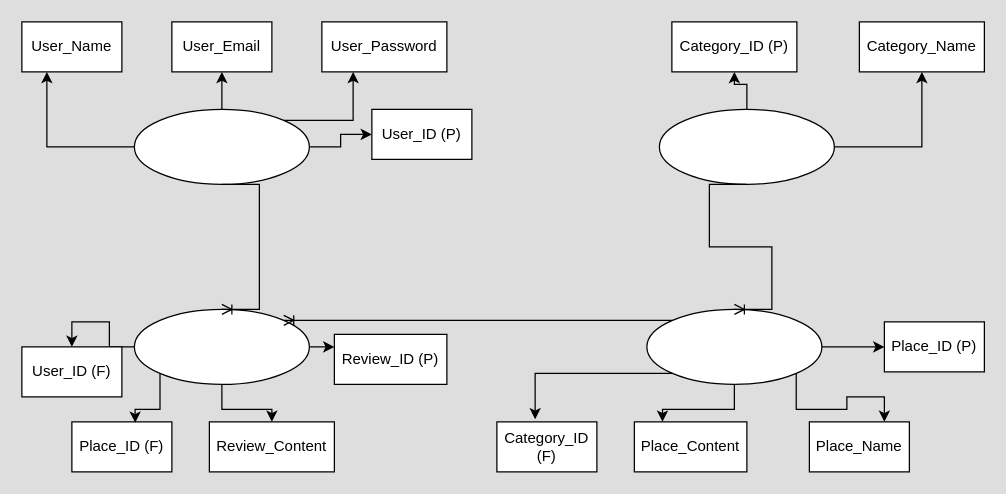
Image size: 1006x494. Some labels were removed from this diagram. The centre of each missing label's shape, as x and y in pixels:
Category: the point at 746,146
Place: the point at 734,346
Review: the point at 221,346
User: the point at 221,146
